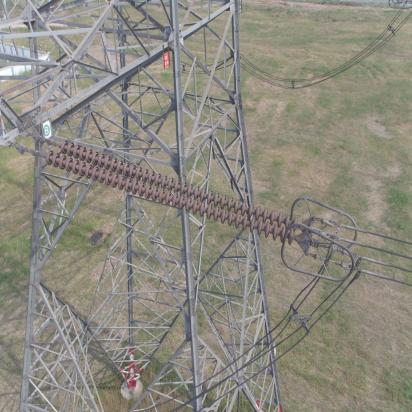insulator: (32, 137, 305, 247)
